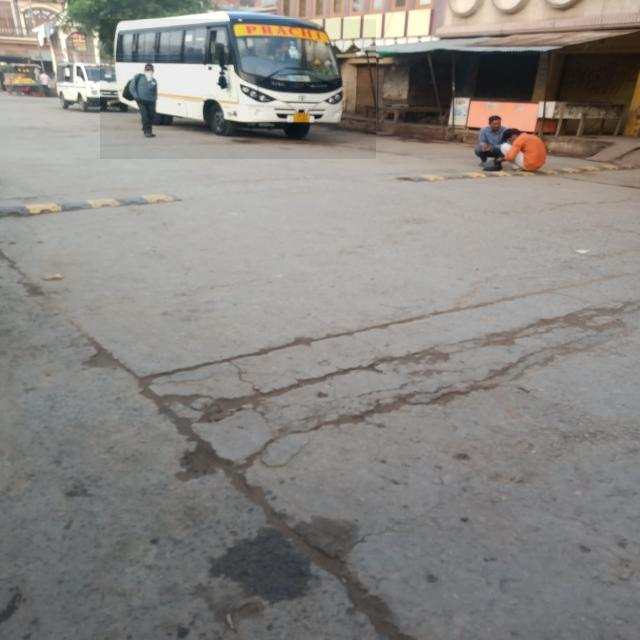Bus: (100, 19, 376, 160)
